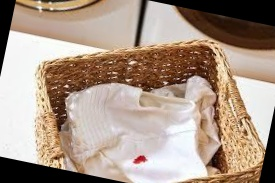blood: (131, 151, 149, 168)
